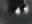person: (16, 8, 22, 17), (25, 6, 30, 16)
